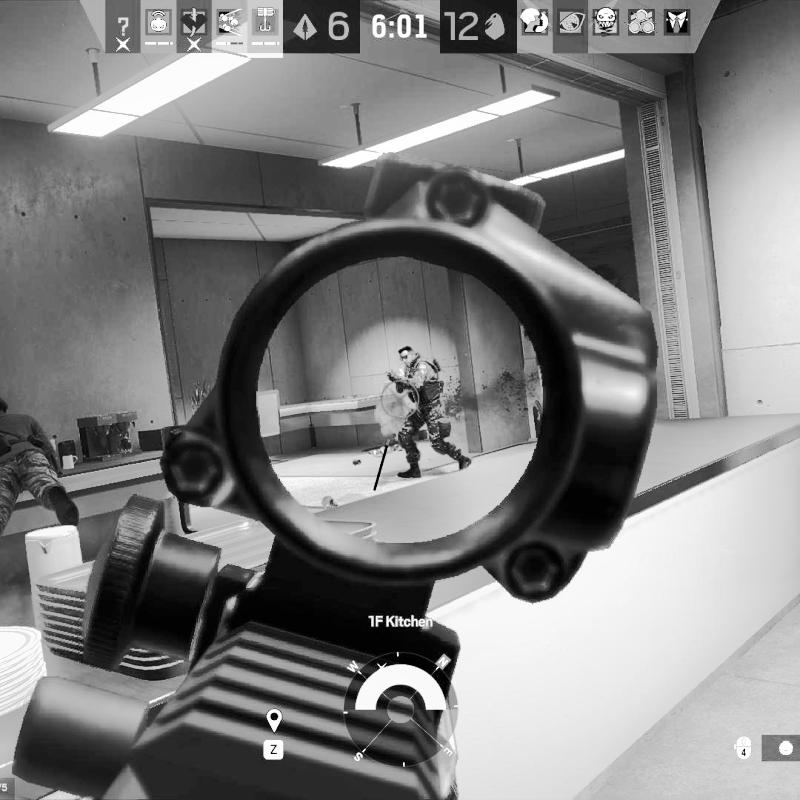Character: (384, 344, 473, 480), (0, 396, 84, 536)
Head: (398, 344, 418, 368)
